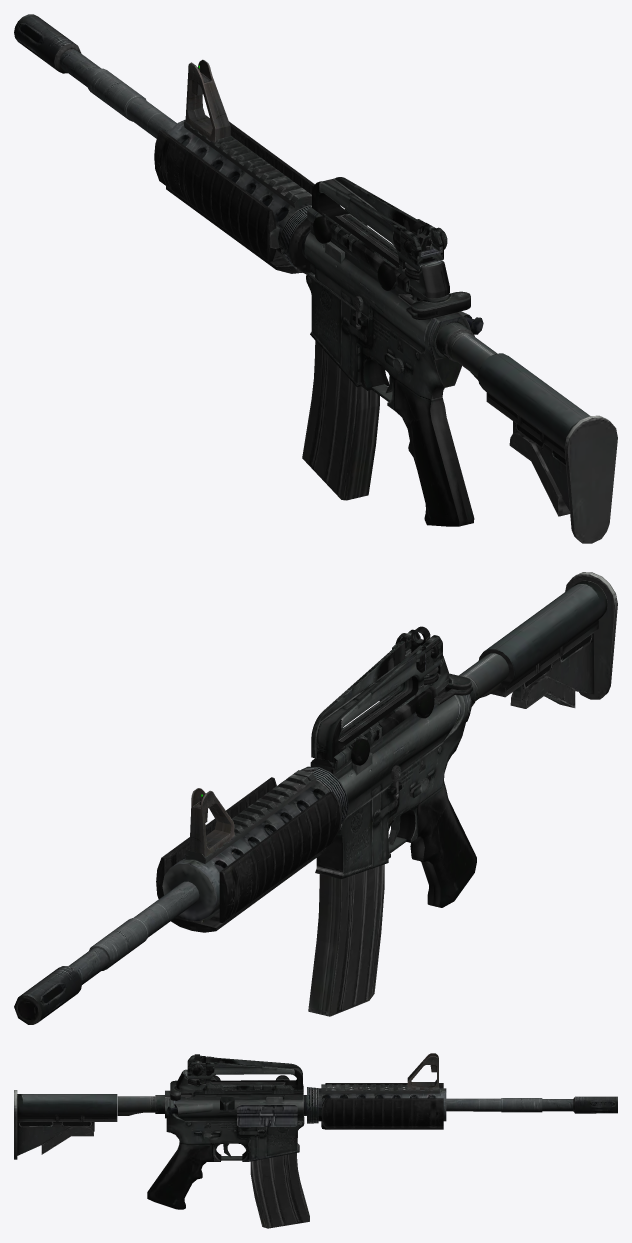
The picture shows the model from 3 angles, top to bottom: view 1: azimuth 30°, elevation 25°; view 2: azimuth 150°, elevation 25°; view 3: azimuth 270°, elevation 25°; orthographic projection. The views are drawn at different scales.
Visible parts, largest first — view 1: body__tex_m4a1_body, body__tex_m4a1_barrel, body__tex_m4a1_stock, body__tex_m4a1_body.001, mag__tex_m4a1_magazine, body__tex_m4a1_sight; view 2: body__tex_m4a1_barrel, body__tex_m4a1_body, body__tex_m4a1_stock, body__tex_m4a1_body.001, mag__tex_m4a1_magazine, body__tex_m4a1_sight; view 3: body__tex_m4a1_body, body__tex_m4a1_barrel, body__tex_m4a1_stock, body__tex_m4a1_body.001, mag__tex_m4a1_magazine, body__tex_m4a1_sight.
Boxes of the visible parts, x1,y1,x2,y2 form: body__tex_m4a1_body: [304, 221, 483, 526]; body__tex_m4a1_barrel: [14, 14, 314, 274]; body__tex_m4a1_stock: [436, 322, 617, 543]; body__tex_m4a1_body.001: [307, 177, 449, 298]; mag__tex_m4a1_magazine: [302, 341, 379, 500]; body__tex_m4a1_sight: [185, 59, 230, 152]; body__tex_m4a1_barrel: [14, 766, 348, 1024]; body__tex_m4a1_body: [310, 673, 476, 907]; body__tex_m4a1_stock: [459, 572, 617, 708]; body__tex_m4a1_body.001: [311, 626, 448, 770]; mag__tex_m4a1_magazine: [308, 864, 384, 1016]; body__tex_m4a1_sight: [187, 788, 234, 923]; body__tex_m4a1_body: [147, 1080, 304, 1209]; body__tex_m4a1_barrel: [303, 1083, 617, 1129]; body__tex_m4a1_stock: [14, 1090, 164, 1159]; body__tex_m4a1_body.001: [176, 1054, 302, 1093]; mag__tex_m4a1_magazine: [250, 1153, 309, 1228]; body__tex_m4a1_sight: [407, 1053, 438, 1089].
Size of the model in its own units: 0.0502 by 0.2075 by 0.6609.
Materials: 6 (6 with a texture image).
